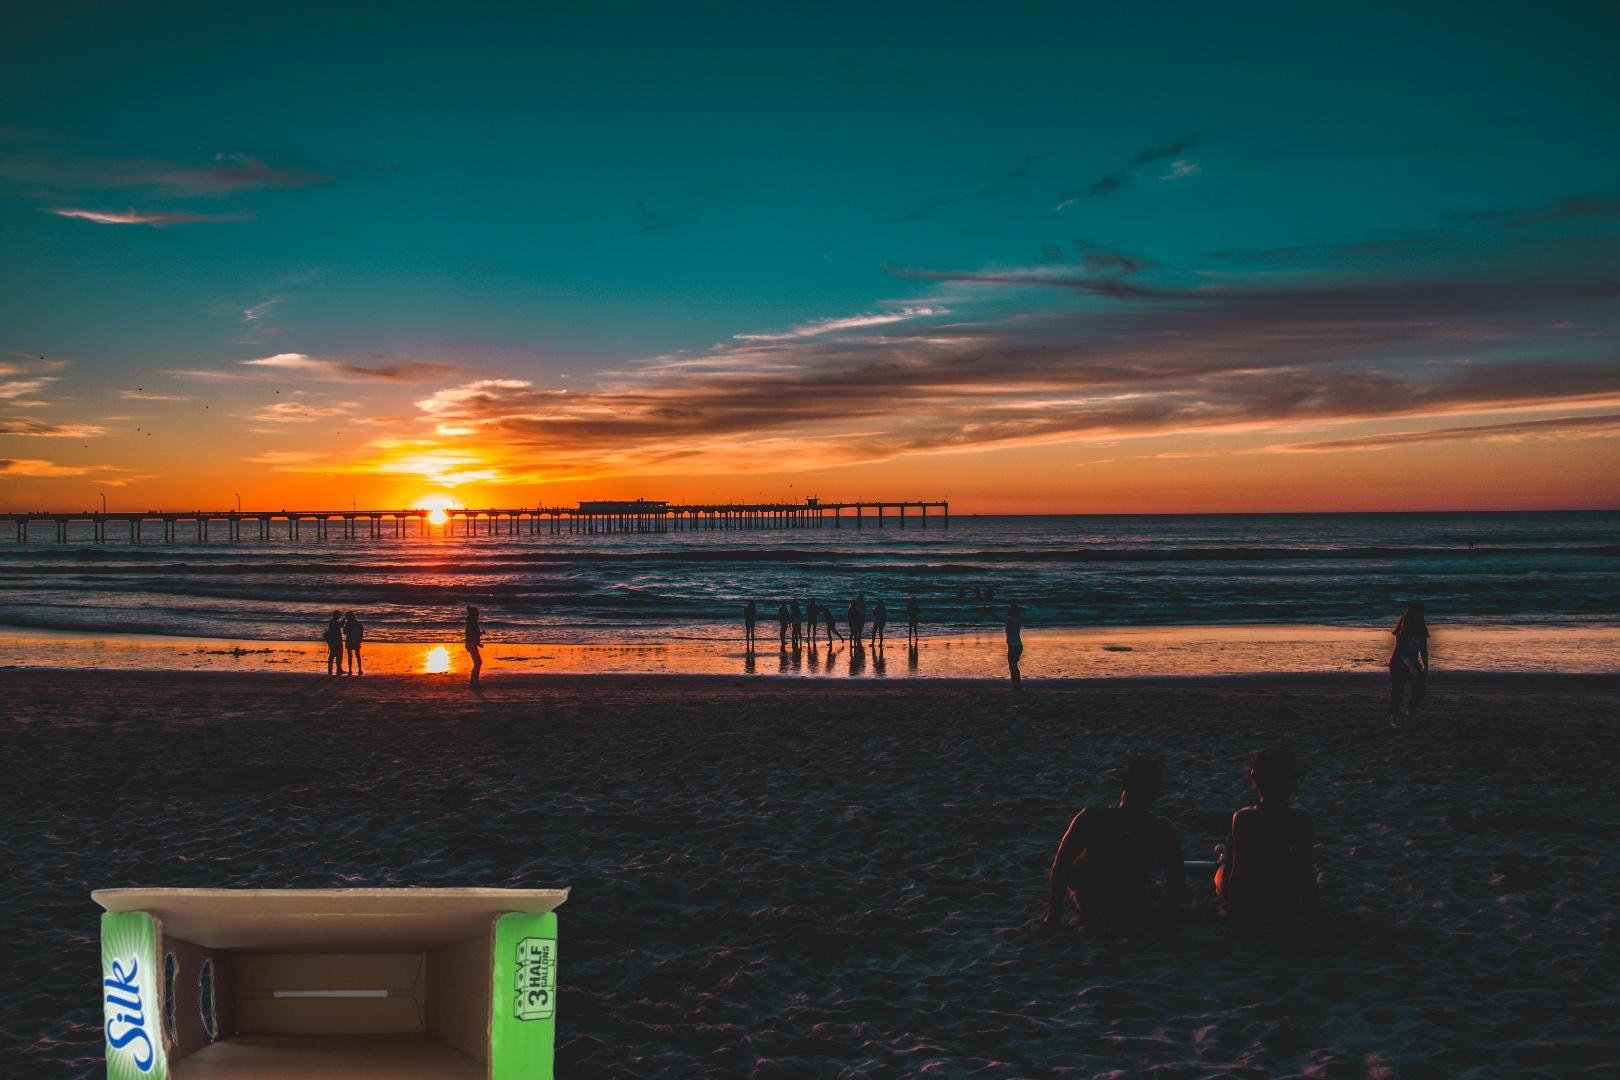trashbox-cardboard: (80, 884, 576, 1080)
